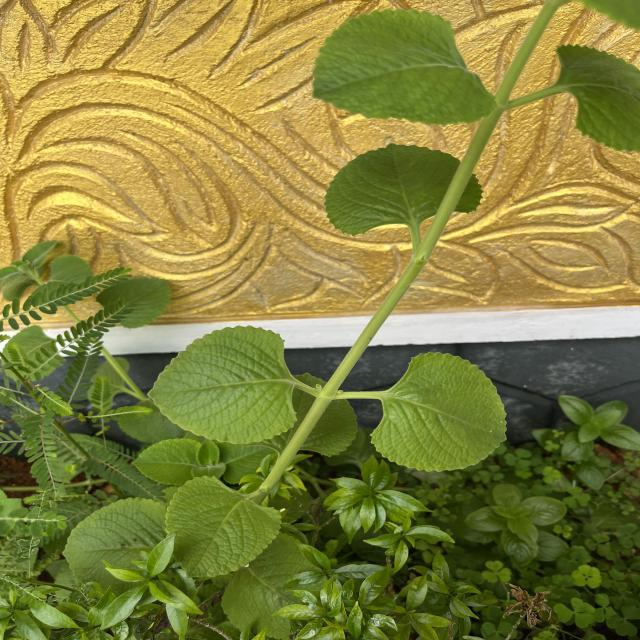Plectranthus barbatus: (310, 7, 499, 132), (146, 324, 298, 446), (368, 350, 510, 472), (323, 142, 484, 236), (165, 474, 284, 580), (131, 438, 200, 486)
